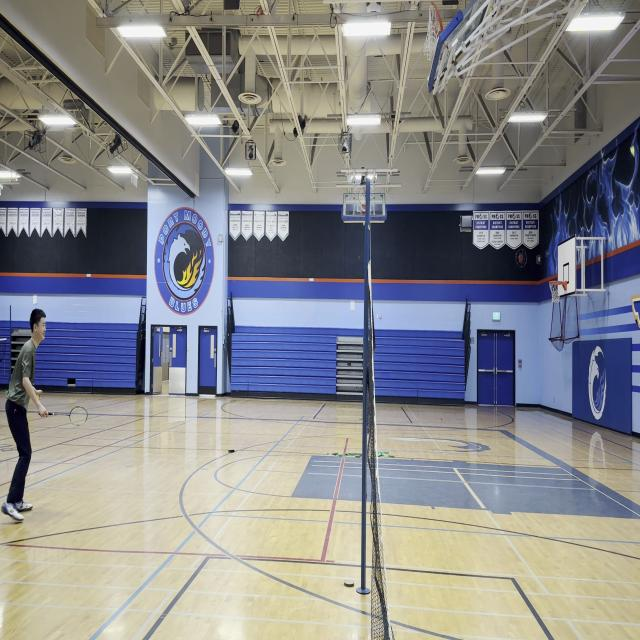shuttlecock: (630, 146, 636, 158)
